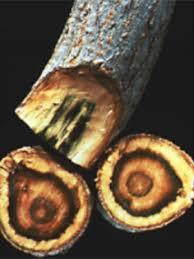Verticillium wilt: (0, 156, 79, 240), (111, 150, 181, 215), (51, 95, 94, 154)
